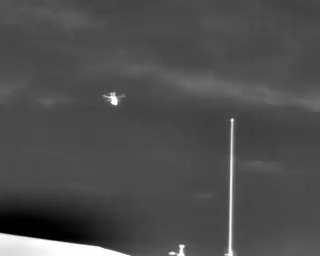HELICOPTER: (97, 86, 131, 113)
